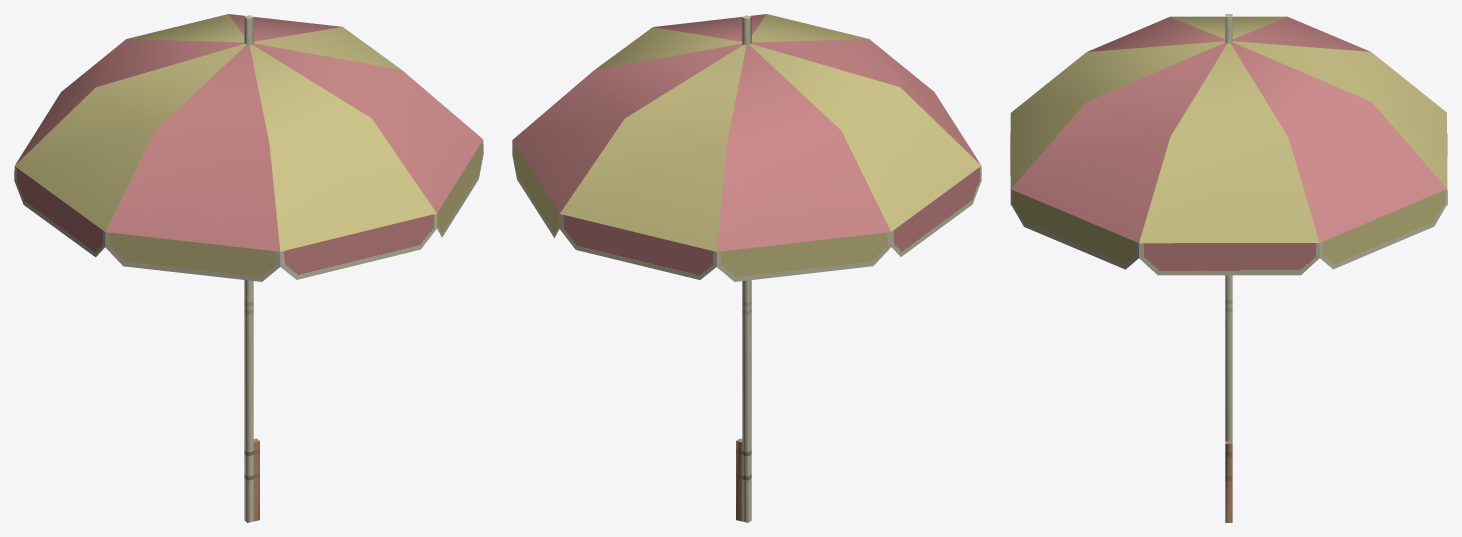
Rendered from 0429_Beach_Umbrella.glb.
3 views of the same model, side by side, from view 1: azimuth 30°, elevation 25°; view 2: azimuth 150°, elevation 25°; view 3: azimuth 270°, elevation 25° (orthographic).
Parts seen in each view (by area): view 1: part_0; view 2: part_0; view 3: part_0.
Boxes of the visible parts, <box> form: part_0: <box>14,14,483,522</box>; part_0: <box>512,14,981,522</box>; part_0: <box>1010,14,1447,522</box>.
Size of the model in its own units: 2.44 by 3.1 by 2.44.
1 material, 1 textured.
